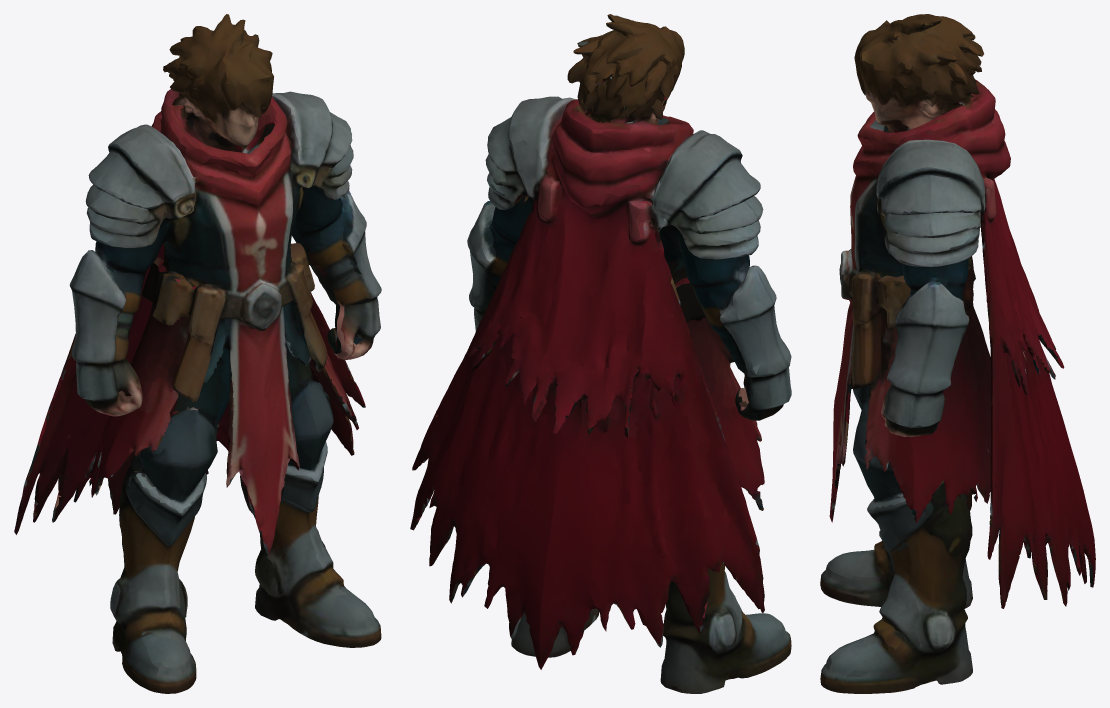
Rendered from vanguard.glb.
3 renders of one model, left to right at view 1: azimuth 30°, elevation 25°; view 2: azimuth 150°, elevation 25°; view 3: azimuth 270°, elevation 25°, orthographic. The views are drawn at different scales.
Visible parts, largest first — view 1: tmpfcj_ak1p.ply; view 2: tmpfcj_ak1p.ply; view 3: tmpfcj_ak1p.ply.
Part boxes in pixels (bbox=[...]): tmpfcj_ak1p.ply: bbox=[14, 14, 381, 693]; tmpfcj_ak1p.ply: bbox=[410, 14, 791, 693]; tmpfcj_ak1p.ply: bbox=[820, 14, 1095, 693].
Bounding box in the file's own units: 1.17 × 1.99 × 0.7976.
1 material, 1 textured.
